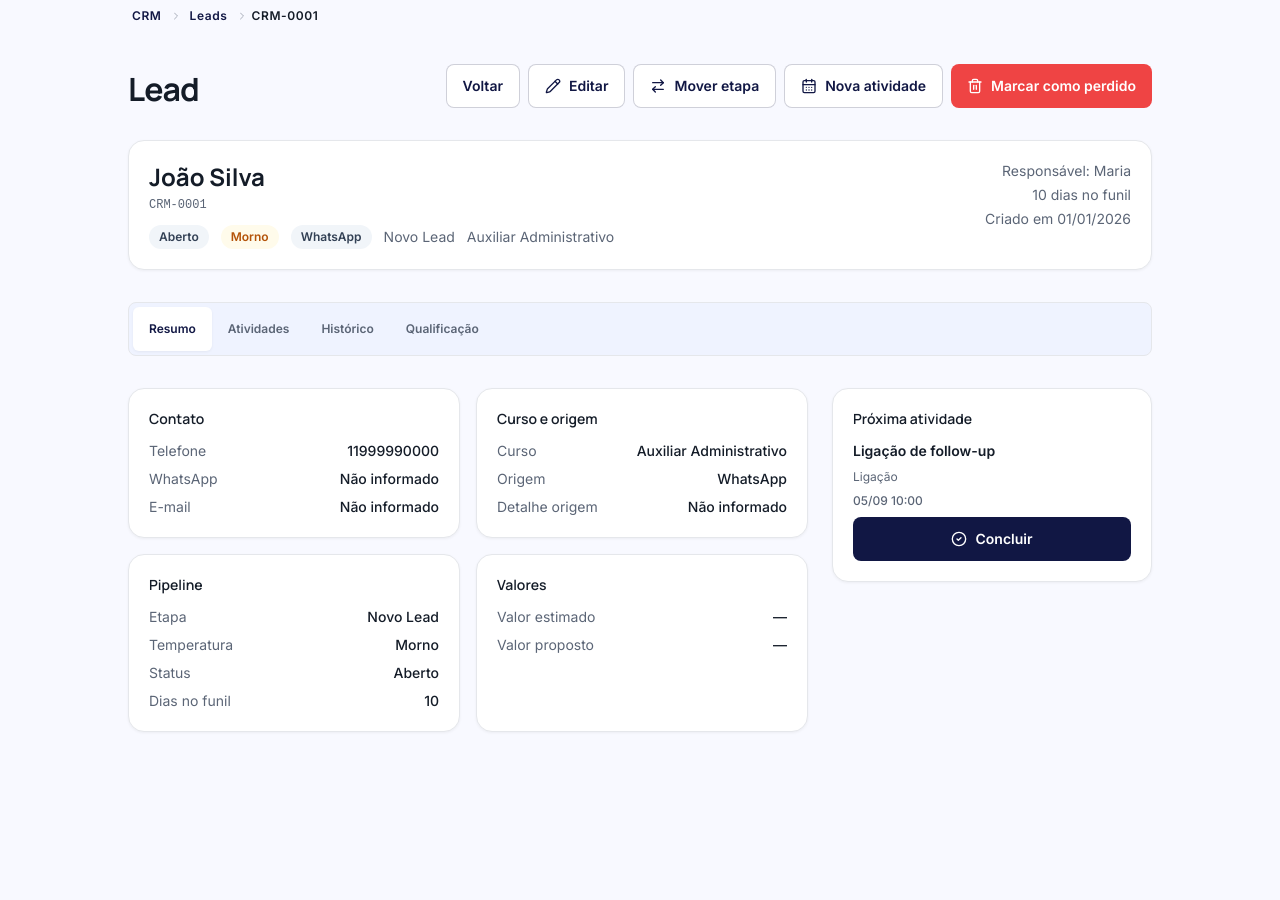
Test: LeadDetailsPage — loading/disabled states › botão Mover etapa fica disabled durante pending
Click the button "Mover etapa": (705, 86) [634,64,776,108]
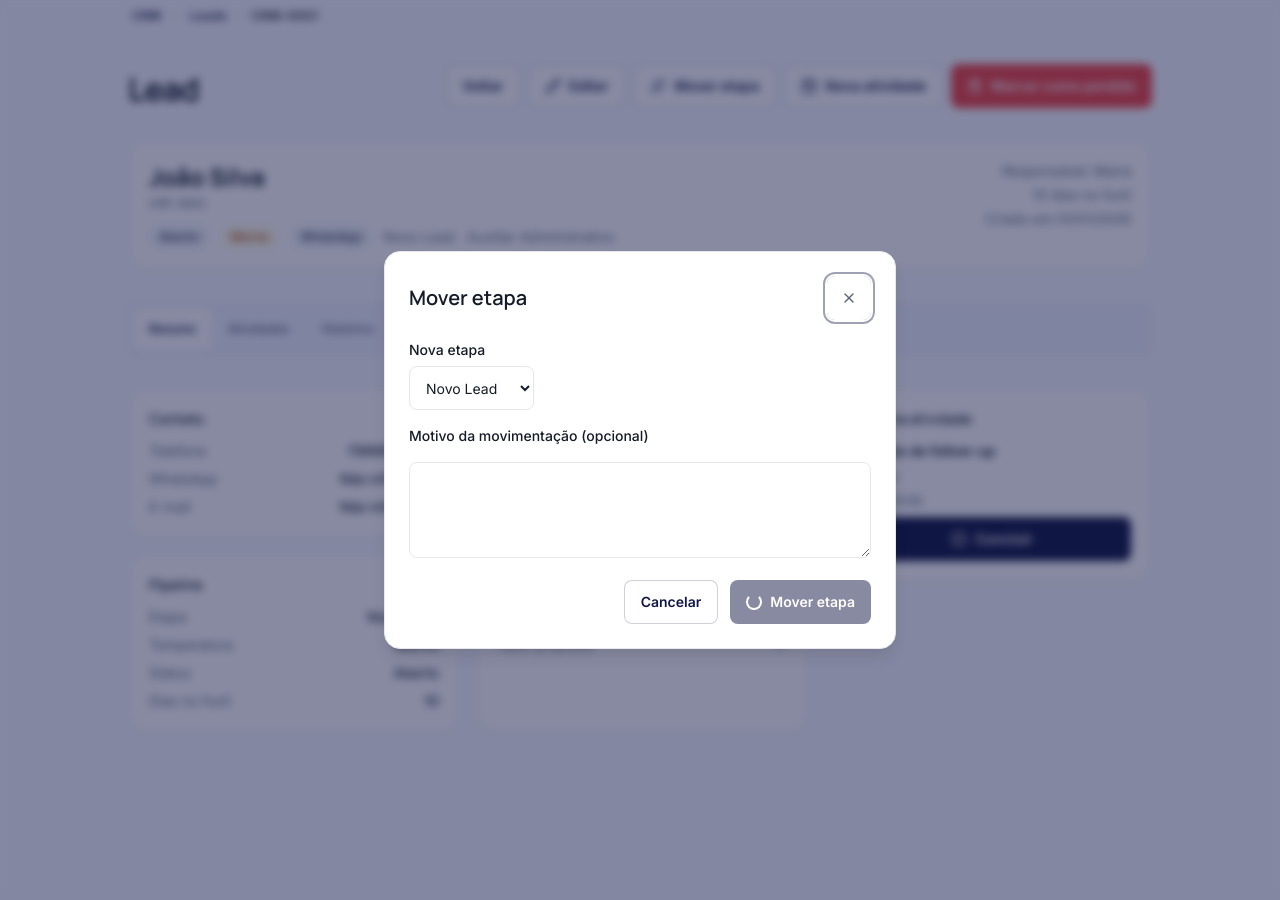
Expected: the button "Mover etapa" is disabled, [730,580,871,624]
